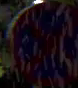No waiting: (5, 1, 77, 87)
